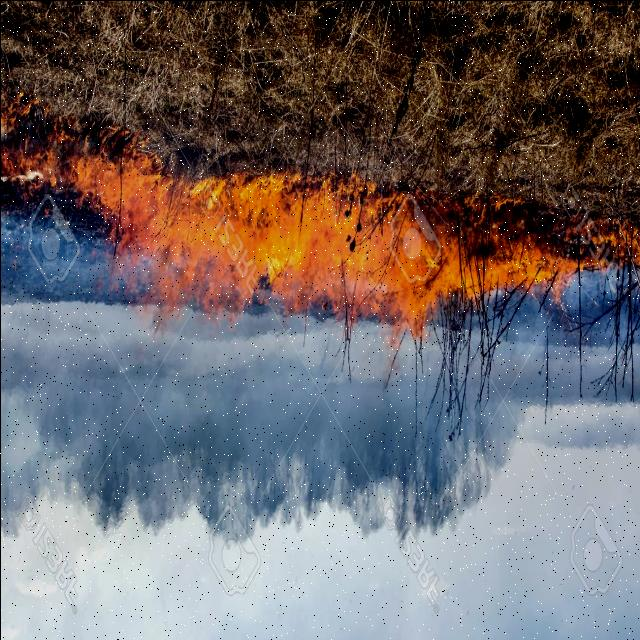api: (1, 85, 640, 387)
asap: (1, 262, 640, 640)
